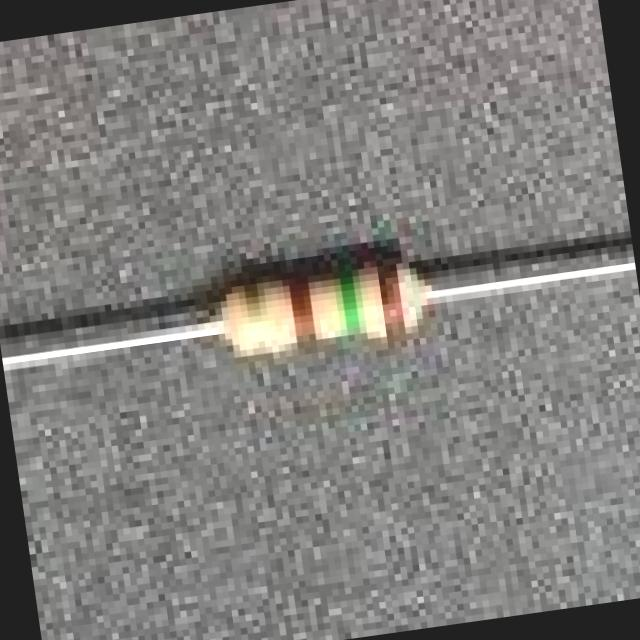Resistor: (228, 270, 426, 356)
brown: (377, 264, 405, 342), (288, 277, 315, 341)
gold: (237, 278, 264, 348)
green: (336, 270, 359, 334)
